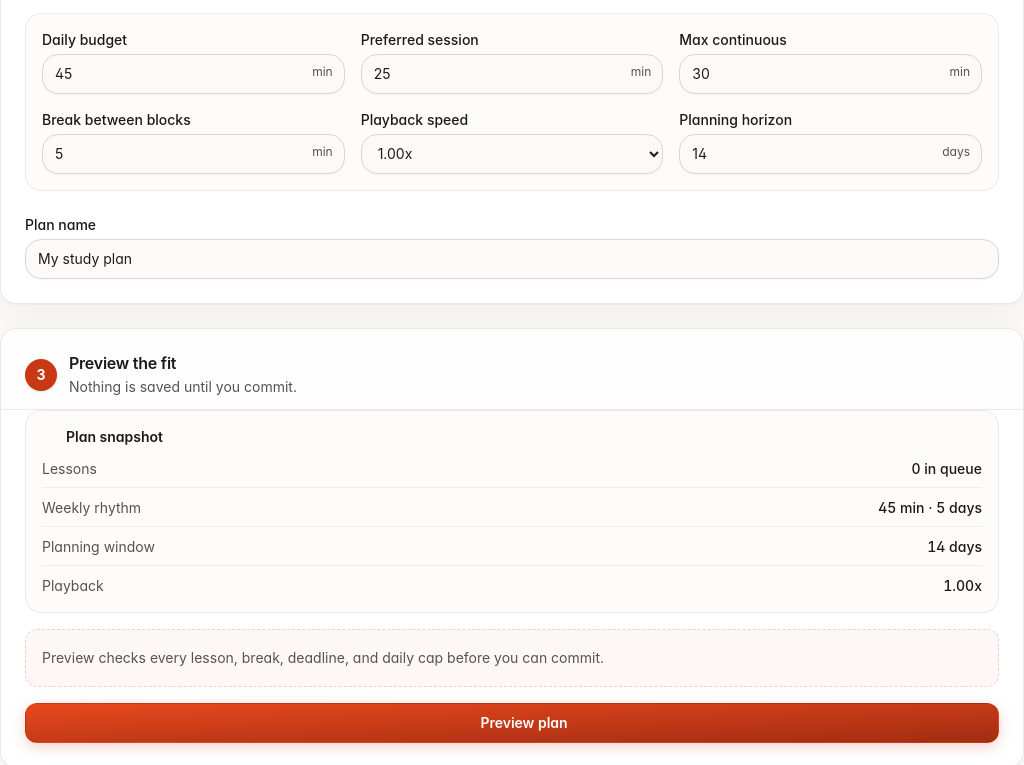
PlanRoute › keeps the primary preview action reachable with no media selected
This screenshot has width=1024, height=765.
(page scrolled)
Click the button "Preview plan" at (512, 722), box top-left (25, 702), bottom-right (999, 742)
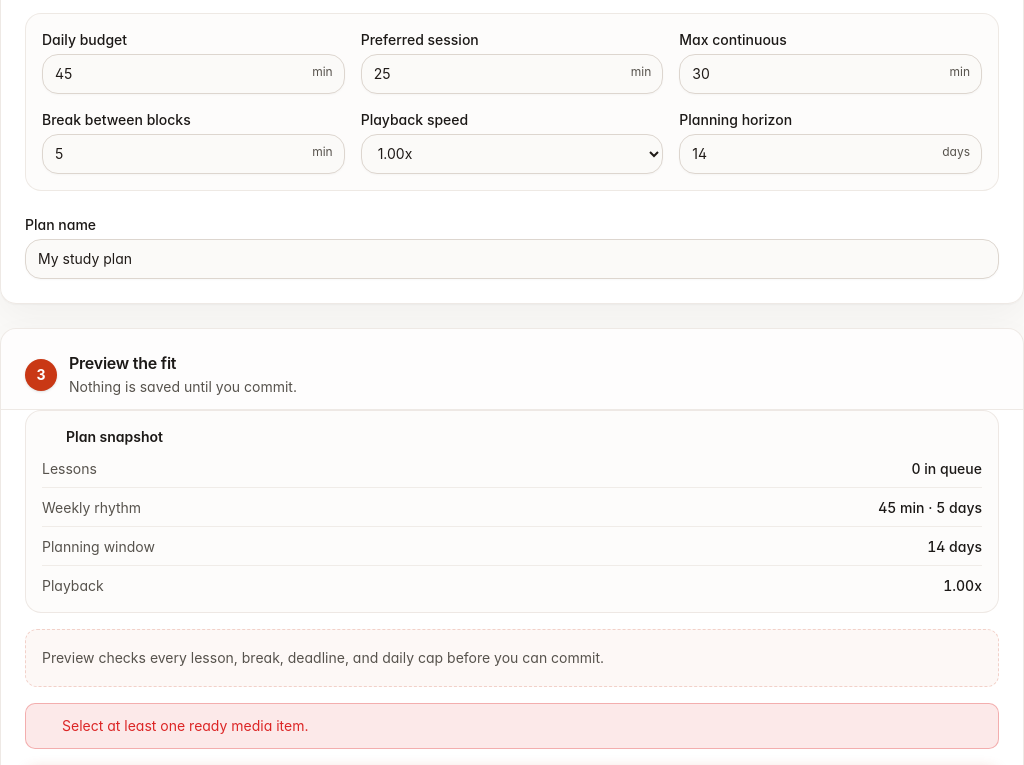
Check: the message shows "Select at least one", box top-left (62, 716), bottom-right (308, 734)
